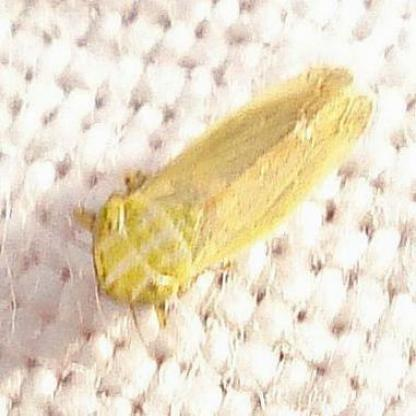green-leafhopper: (96, 64, 383, 324)
